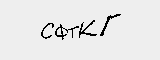Г: (98, 12, 122, 37)
К: (78, 19, 97, 39)
С: (41, 19, 54, 40)
Т: (66, 24, 78, 42)
Ф: (54, 22, 67, 41)
